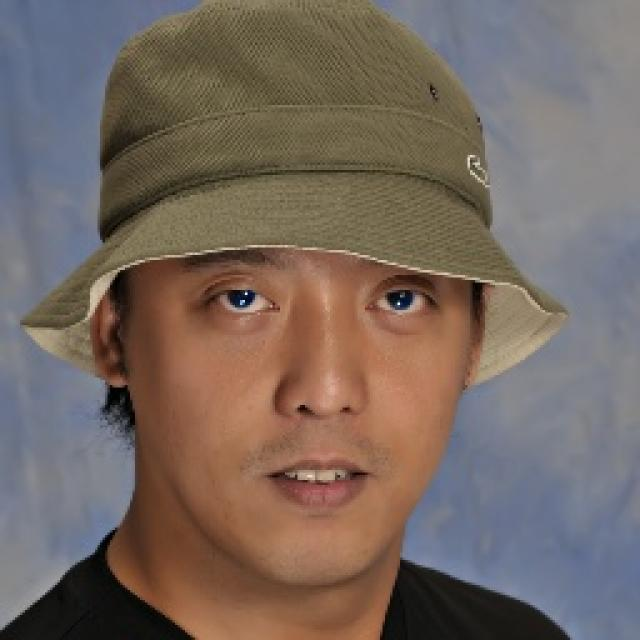earlobe: (101, 350, 130, 388)
eye: (201, 283, 280, 318), (371, 287, 438, 321)
nose: (279, 406, 365, 438)
wholeear: (88, 280, 130, 388)
